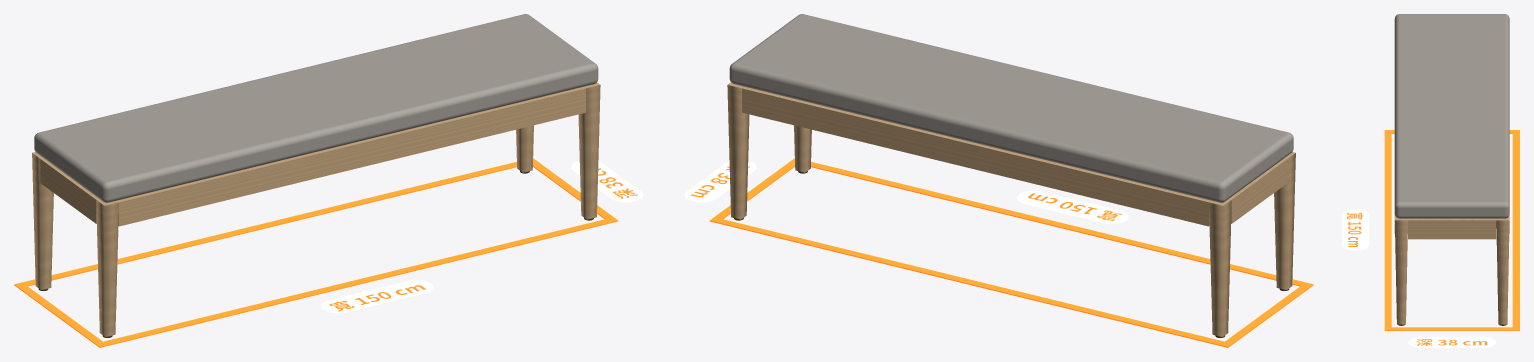
Rendered from ownDanishBench-f.glb.
The picture shows the model from 3 angles, left to right: view 1: azimuth 30°, elevation 25°; view 2: azimuth 150°, elevation 25°; view 3: azimuth 270°, elevation 25°; orthographic projection. The views are drawn at different scales.
Visible parts, largest first — view 1: object 1, object 4, ar-frame, object 8, object 12, object 6, object 3, object 10; view 2: object 1, object 2, ar-frame, object 6, object 10, object 8, object 3, object 12; view 3: object 1, ar-frame, object 5, object 10, object 12.
Part boxes in pixels (left/top/right/bottom): object 1: left=34, top=14, right=598, bottom=202; object 4: left=117, top=86, right=585, bottom=226; ar-frame: left=14, top=158, right=643, bottom=347; object 8: left=96, top=199, right=118, bottom=336; object 12: left=578, top=82, right=600, bottom=219; object 6: left=32, top=152, right=53, bottom=290; object 3: left=40, top=158, right=98, bottom=223; object 10: left=516, top=125, right=533, bottom=172; object 1: left=729, top=14, right=1293, bottom=202; object 2: left=742, top=86, right=1210, bottom=226; ar-frame: left=684, top=158, right=1313, bottom=347; object 6: left=1209, top=199, right=1231, bottom=336; object 10: left=727, top=82, right=749, bottom=219; object 8: left=1274, top=152, right=1295, bottom=290; object 3: left=1229, top=158, right=1287, bottom=223; object 12: left=794, top=125, right=811, bottom=172; object 1: left=1394, top=14, right=1509, bottom=218; ar-frame: left=1342, top=130, right=1519, bottom=347; object 5: left=1408, top=218, right=1496, bottom=239; object 10: left=1496, top=215, right=1509, bottom=324; object 12: left=1394, top=215, right=1407, bottom=324.
Size of the model in its own units: 1.71 by 0.45 by 0.5885.
Materials: 6 (3 with a texture image).
